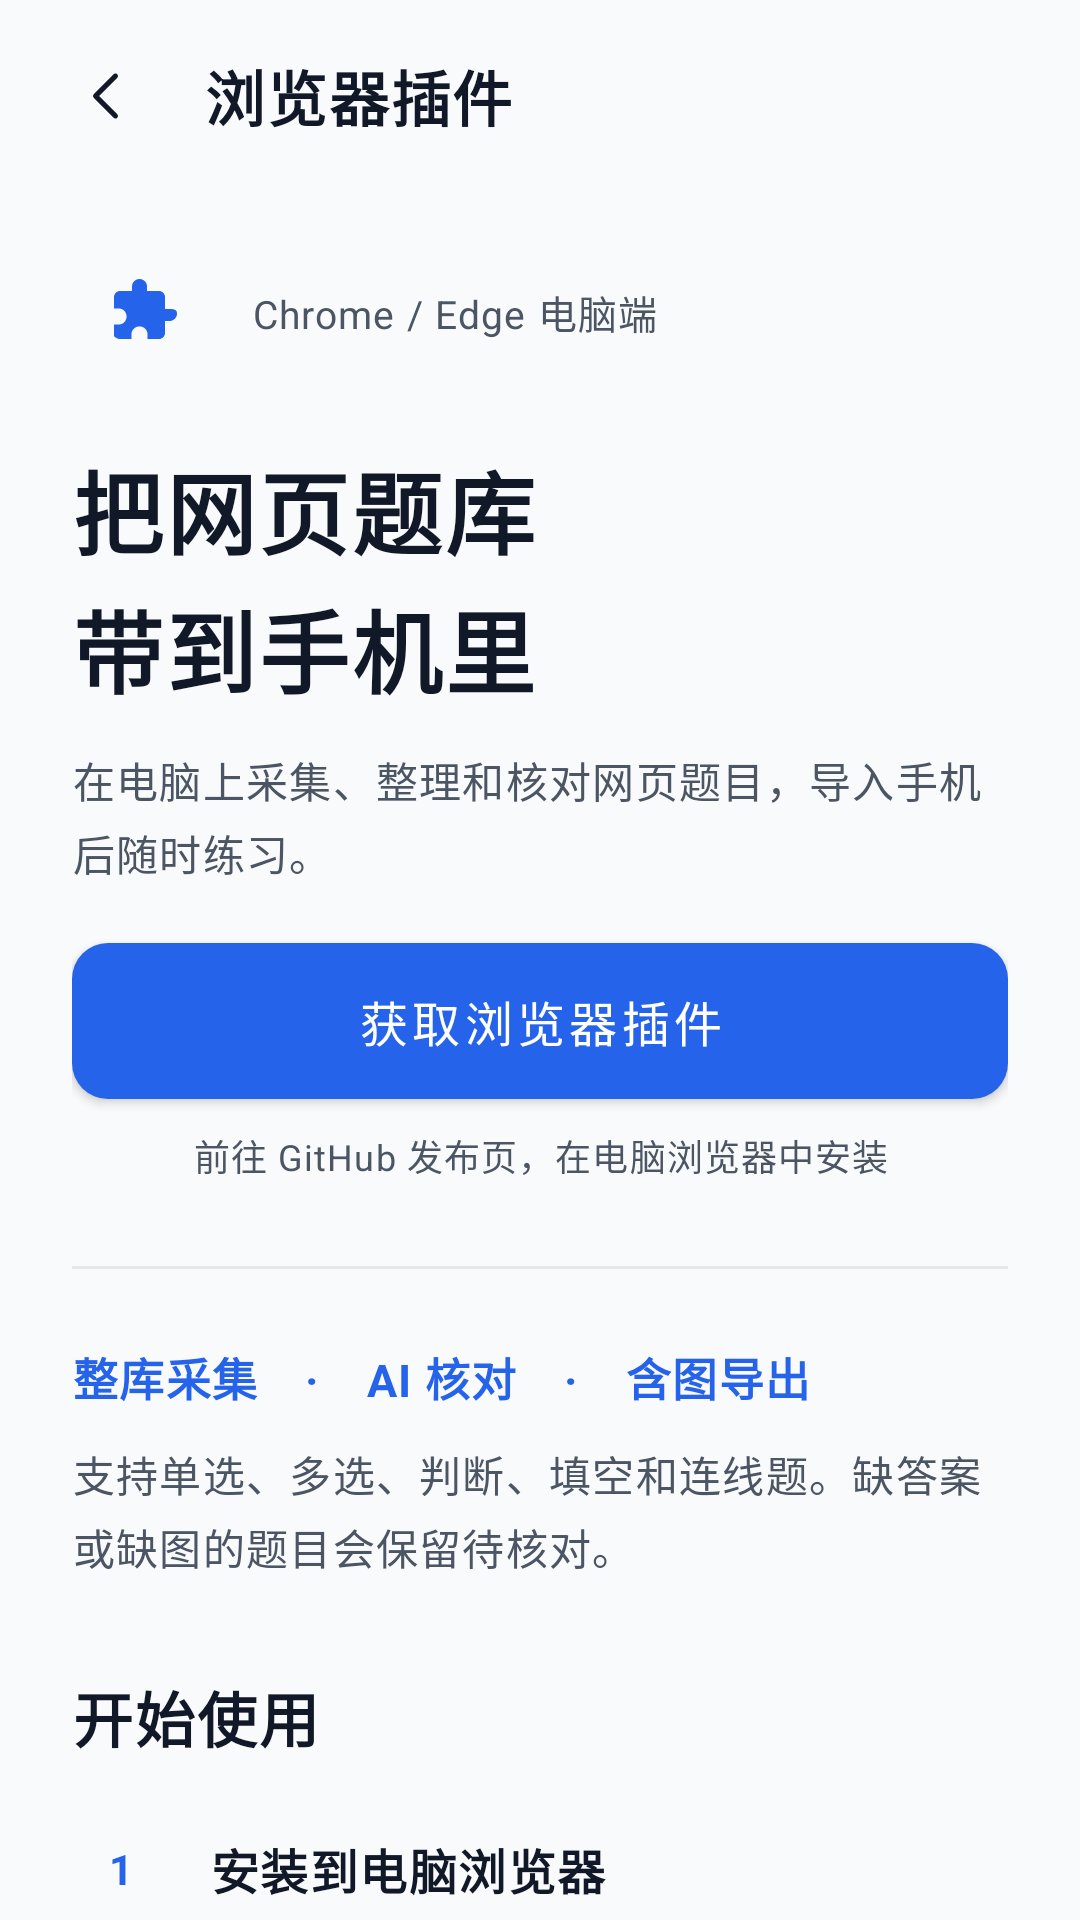

Locate icon controls on the screen. Image size 1080 x 1920, boxes as (x1, y1, x2, y2).
extension: (114, 279, 177, 339)
返回上一页: (93, 73, 118, 119)
